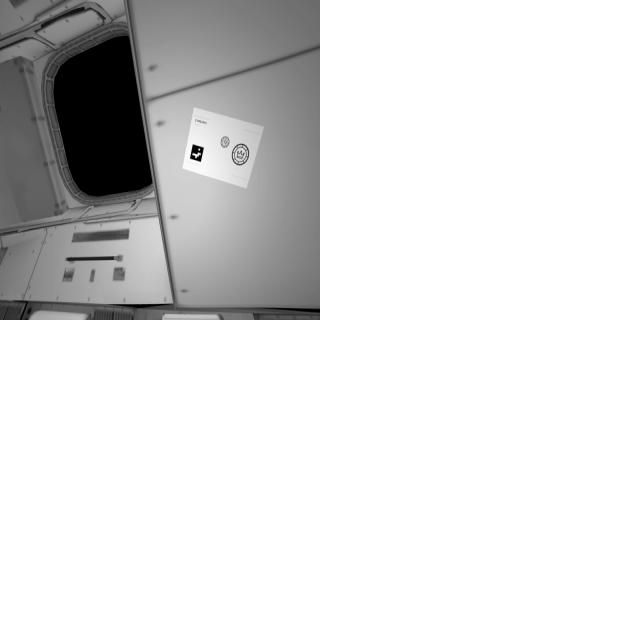coin: (232, 143, 252, 168), (218, 136, 234, 151)
